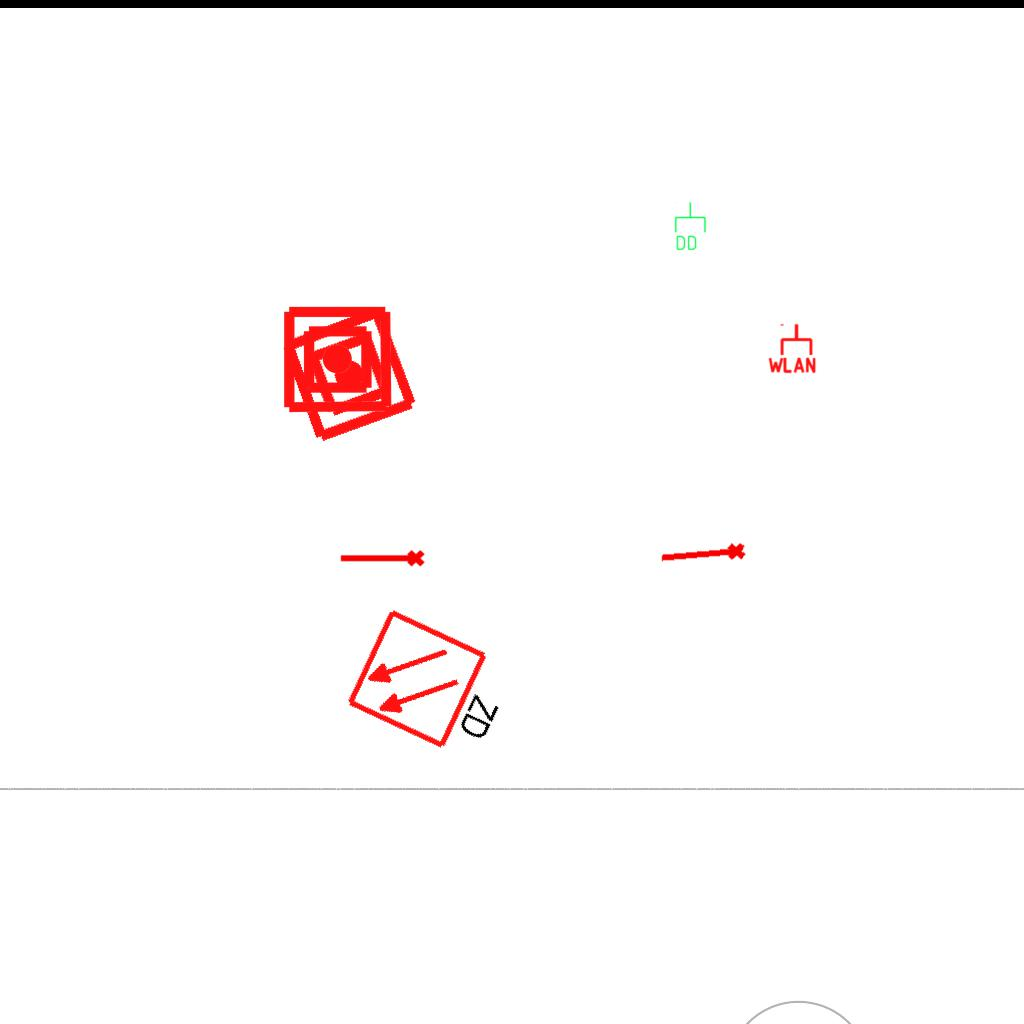ASR_Ansaugoeffnung: (658, 540, 748, 571), (338, 548, 426, 571)
Datenanschluss_zweifach: (673, 201, 707, 252)
NAM-Nichtautomatischer_Melder: (277, 302, 422, 447), (281, 303, 394, 416)
WLAN: (766, 322, 818, 374)
ZD_Melder_in_Zwischendecke_mit_Revisionsoeffnung_mind_40_x_40_cm: (343, 602, 527, 769)
